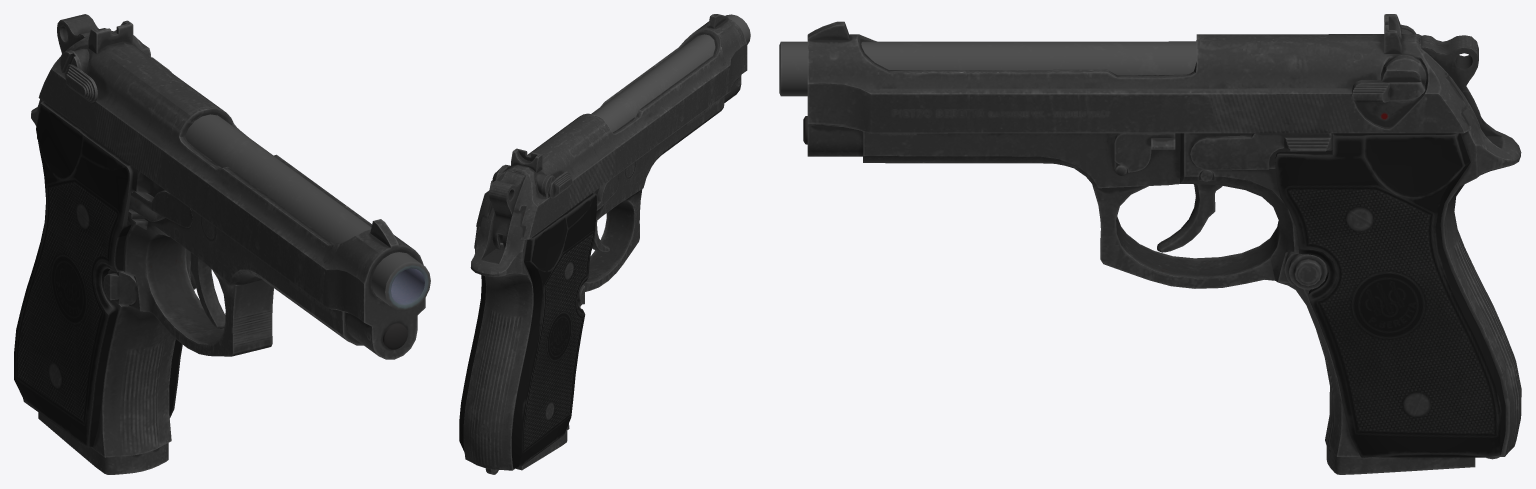
Rendered from beretta.glb.
3 views of the same model, side by side, from view 1: azimuth 30°, elevation 25°; view 2: azimuth 150°, elevation 25°; view 3: azimuth 270°, elevation 25° (orthographic). The views are drawn at different scales.
Parts seen in each view (by area): view 1: Beretta; view 2: Beretta; view 3: Beretta.
Boxes of the visible parts, bbox=[...] form: Beretta: bbox=[14, 14, 430, 474]; Beretta: bbox=[459, 14, 750, 474]; Beretta: bbox=[779, 14, 1521, 474].
Bounding box in the file's own units: 1.01 × 4.47 × 6.89.
1 material, 1 textured.
